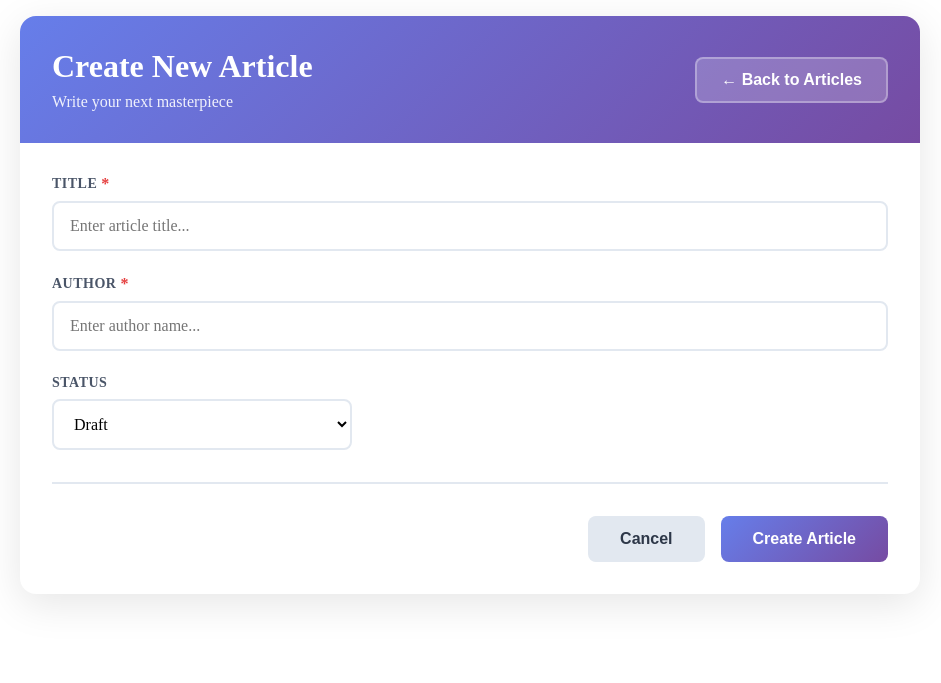
Test: ArticleFormPage - Create Mode › displays error message on failed submission
The image size is (941, 683).
Type "Test Article" into the field with placeholder "Enter article title..." at {"x": 470, "y": 226}, box [52, 201, 888, 251]
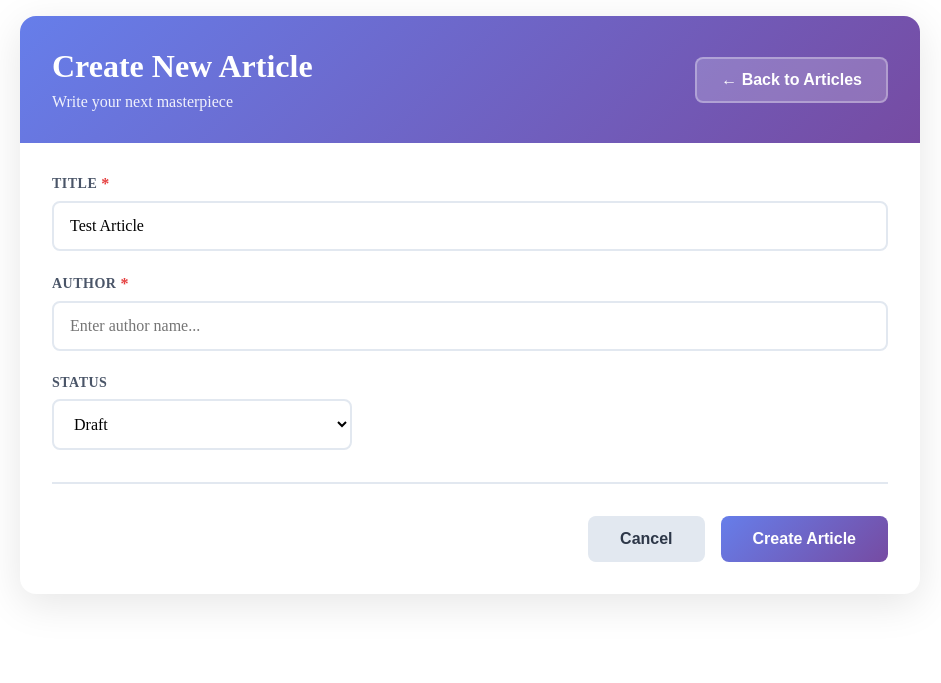
Type "John Doe" into the field with placeholder "Enter author name..." at {"x": 470, "y": 326}, box [52, 301, 888, 351]
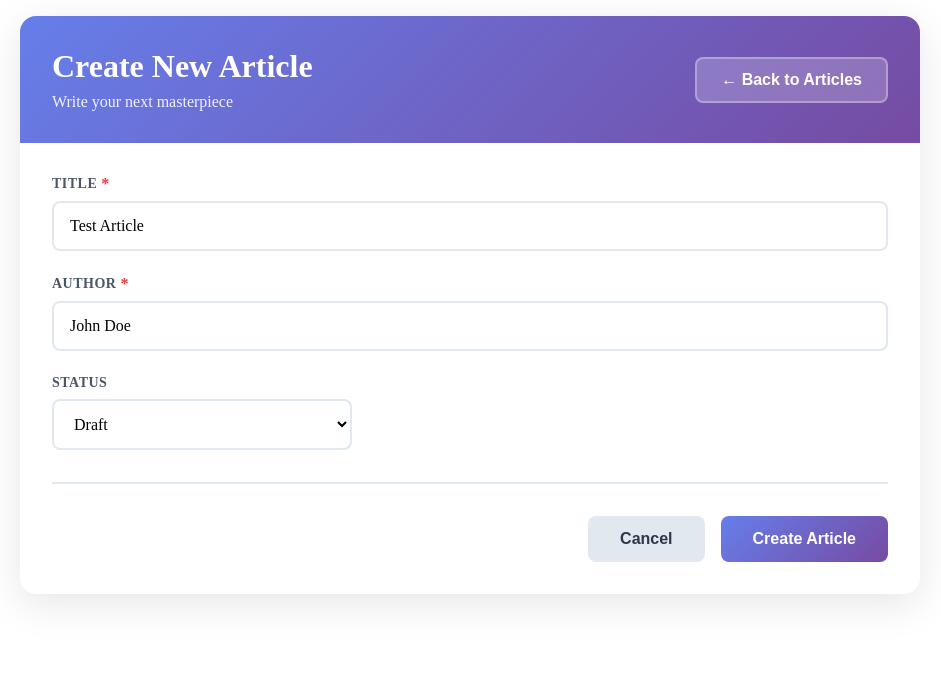
Click the button "Create Article" at {"x": 804, "y": 539}, box [720, 516, 888, 562]
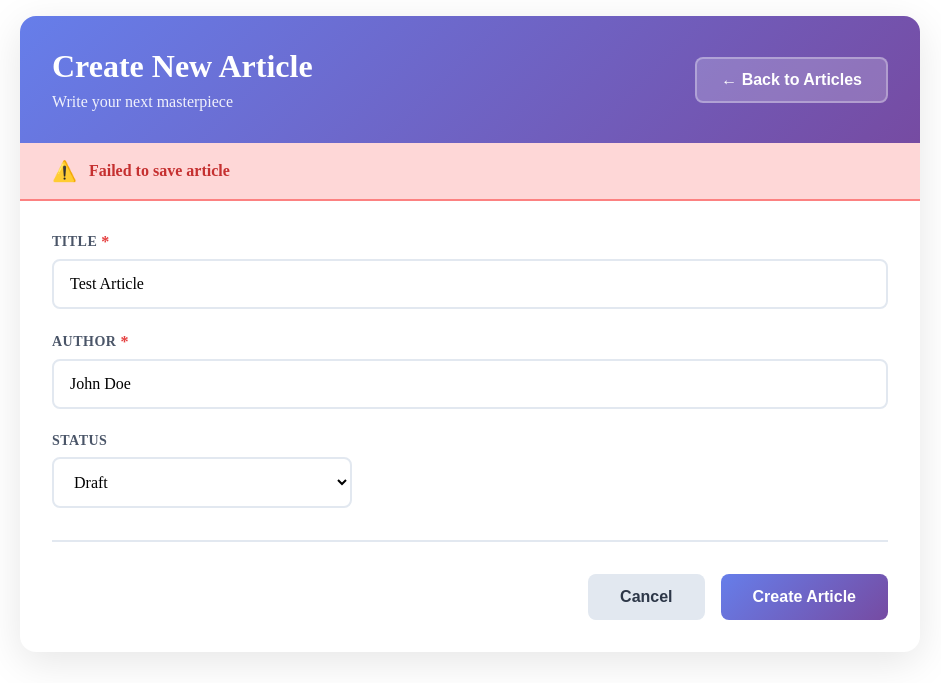
Expected: the text "Failed to save article" is shown, [89, 162, 230, 180]
